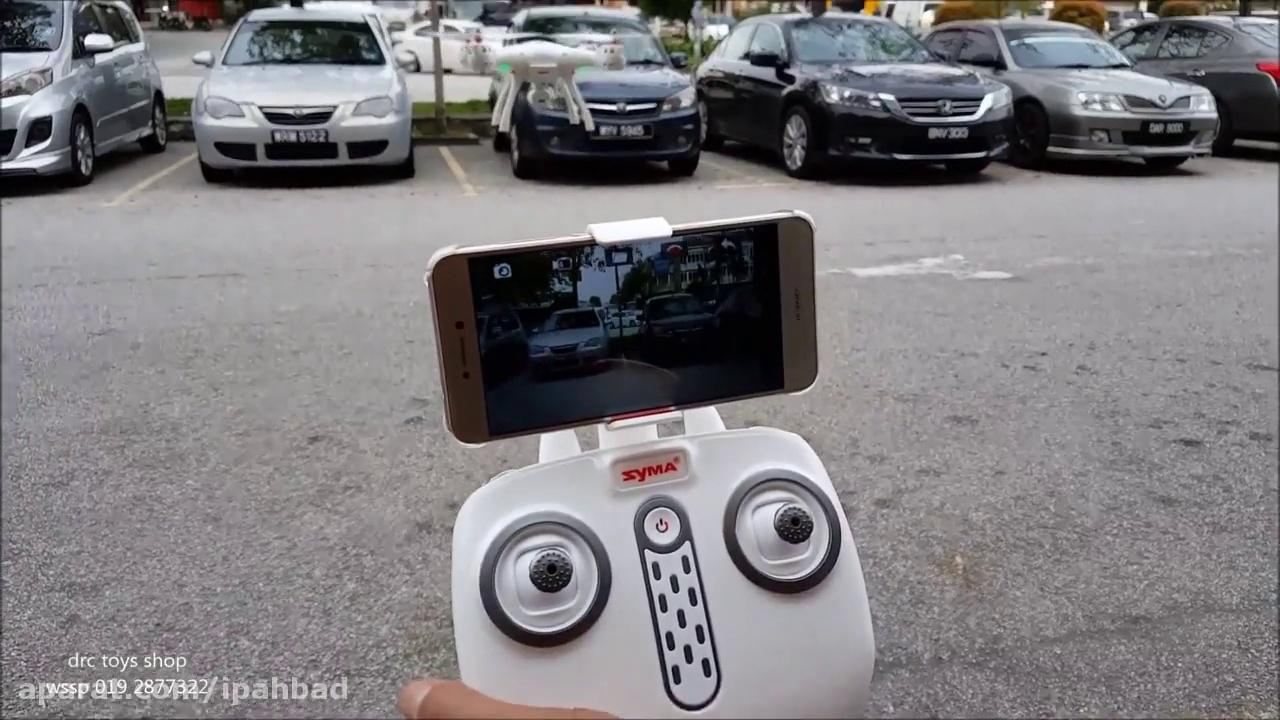drone: (447, 19, 641, 134)
